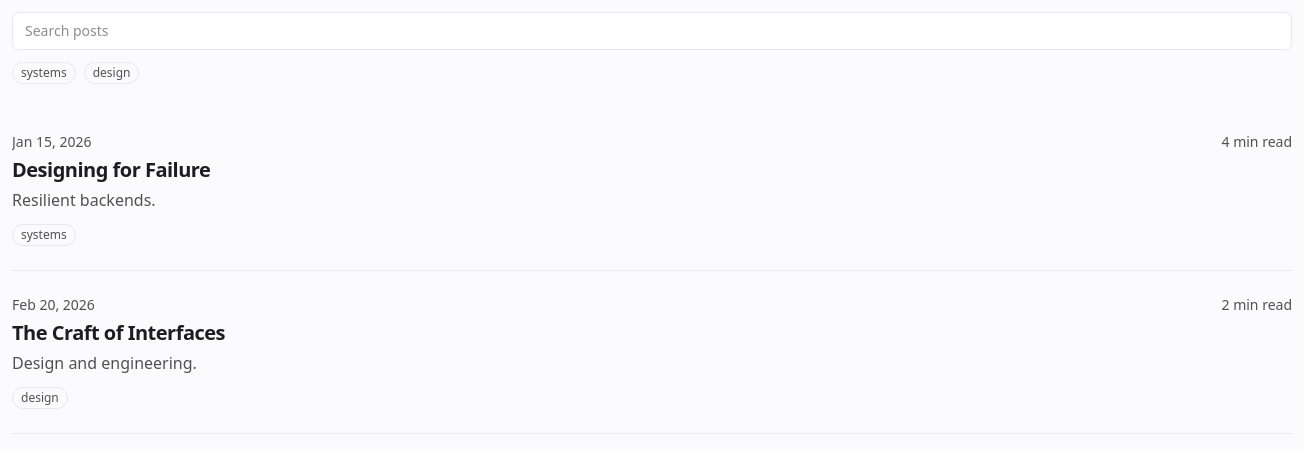
Scenario: BlogExplorer › filters by toggling a tag
This screenshot has width=1304, height=451.
Click the button "design" at (112, 73), box [84, 62, 140, 84]
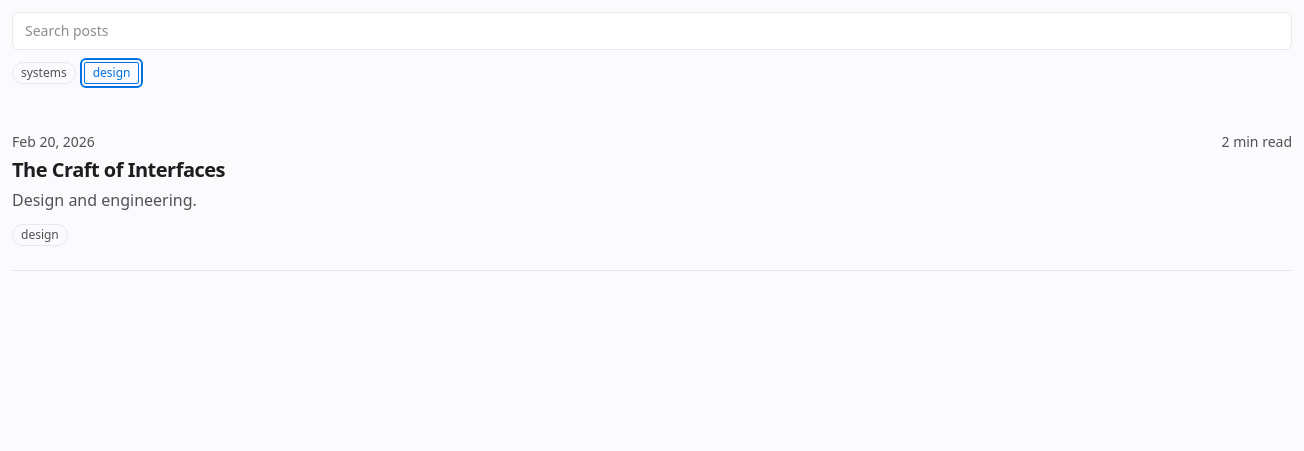
Expected: the link "The Craft of Interfaces" is shown, [12, 156, 225, 183]
Now the link "Designing for Failure" is gone
